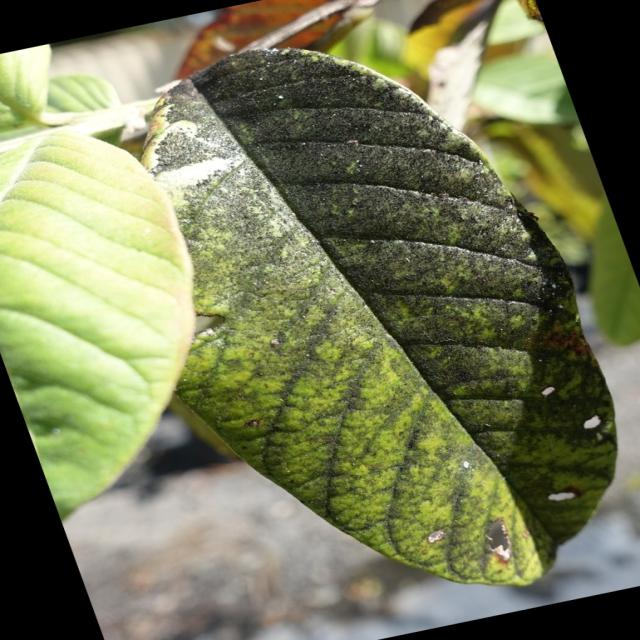Sooty Mold: (138, 46, 619, 586)
